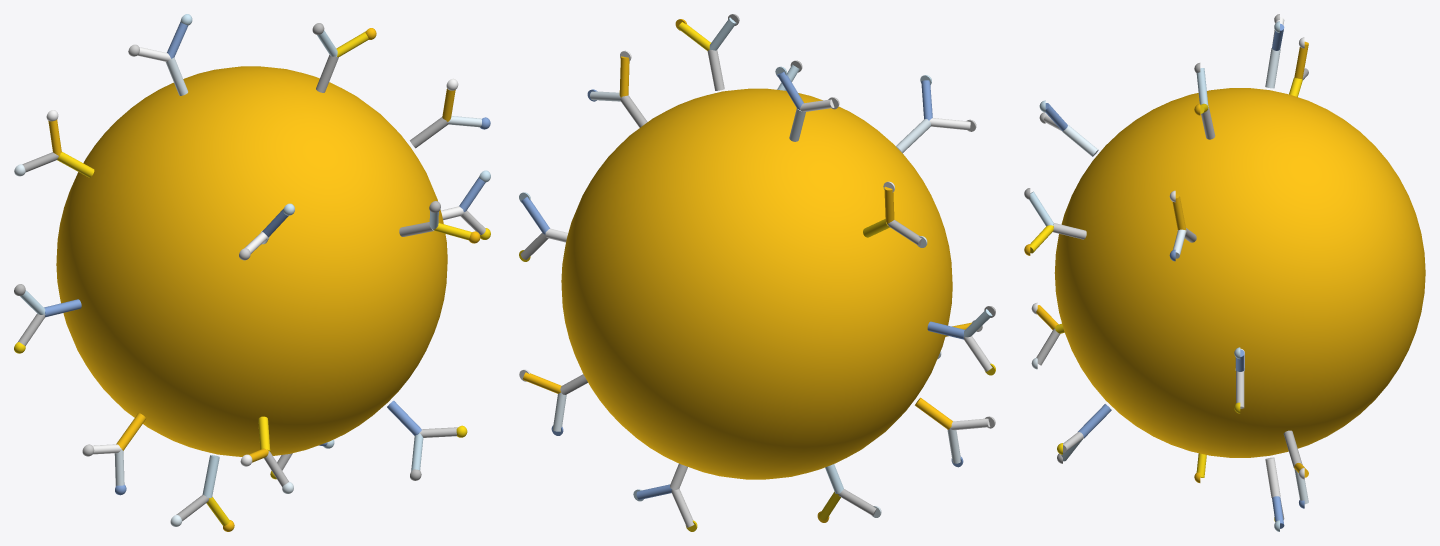
The model's file is b_cell_onshape parts - Composite part 1.glb.
3 renders of one model, left to right at view 1: azimuth 30°, elevation 25°; view 2: azimuth 150°, elevation 25°; view 3: azimuth 270°, elevation 25°, orthographic. The views are drawn at different scales.
Visible parts, largest first — view 1: Open CASCADE STEP translator 7.9 1.1; view 2: Open CASCADE STEP translator 7.9 1.1; view 3: Open CASCADE STEP translator 7.9 1.1.
Part boxes in pixels (left/top/right/bottom): Open CASCADE STEP translator 7.9 1.1: left=56, top=66, right=447, bottom=456; Open CASCADE STEP translator 7.9 1.1: left=561, top=88, right=952, bottom=479; Open CASCADE STEP translator 7.9 1.1: left=1054, top=88, right=1425, bottom=457.
Size of the model in its own units: 0.0421 by 0.0411 by 0.0325.
